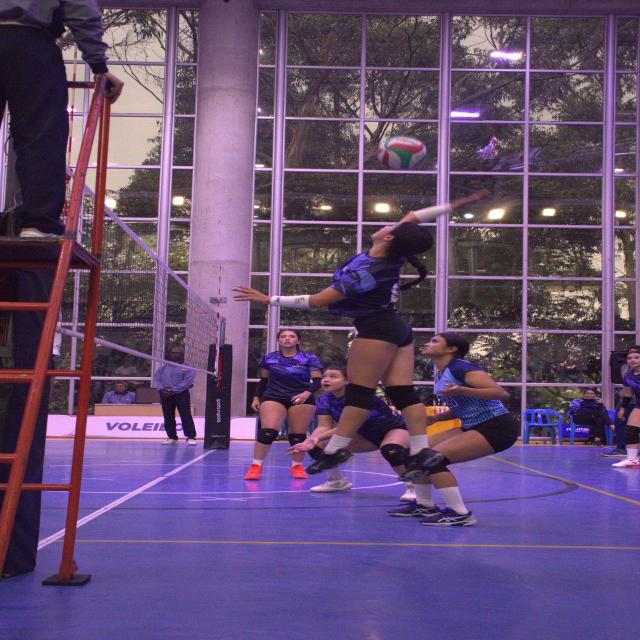volleyball: (380, 135, 429, 171)
